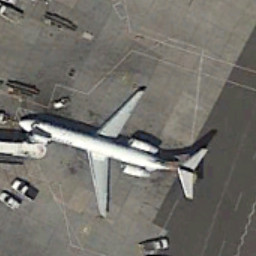Airplane: (16, 81, 214, 225)
